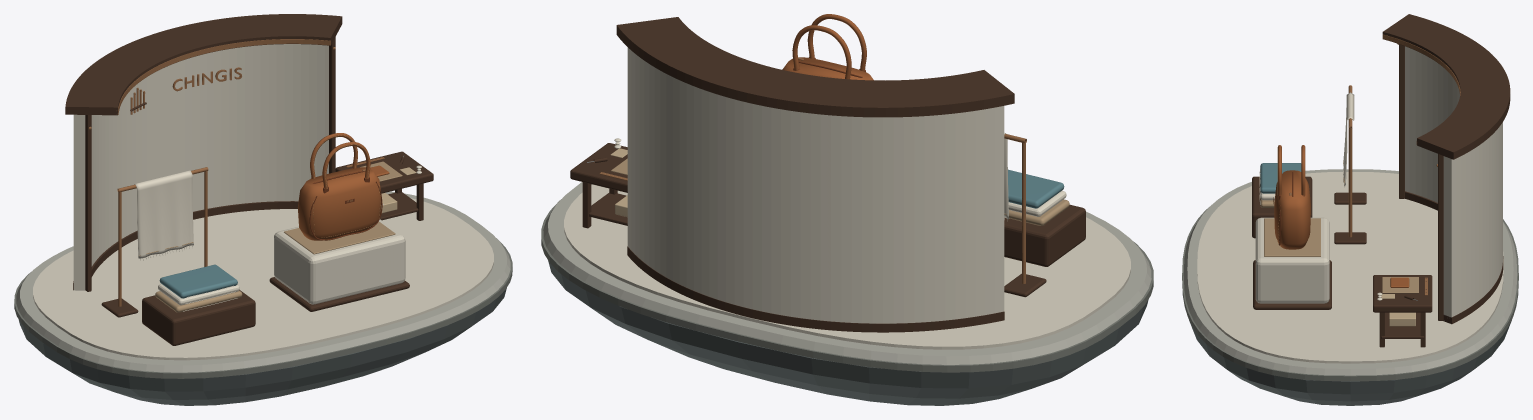
The model's file is atelier-v5.glb.
3 views of the same model, side by side, from view 1: azimuth 30°, elevation 25°; view 2: azimuth 150°, elevation 25°; view 3: azimuth 270°, elevation 25° (orthographic). The views are drawn at different scales.
Visible parts, largest first — view 1: Atelier_Atelier_limestone, Atelier_Atelier_timber, Atelier_Atelier_basalt, Atelier_Atelier_floor, atelier_bag_Atelier_leather, atelier_textile_Atelier_felt, Atelier_Atelier_strata, Atelier_Atelier_metal, Atelier_Atelier_cashmere, Atelier_Atelier_moonstone, Atelier_Atelier_felt, atelier_bag_Atelier_leather_edge; view 2: Atelier_Atelier_limestone, Atelier_Atelier_timber, Atelier_Atelier_basalt, Atelier_Atelier_floor, Atelier_Atelier_strata, atelier_bag_Atelier_leather, Atelier_Atelier_moonstone, Atelier_Atelier_metal, Atelier_Atelier_cashmere, Atelier_Atelier_felt; view 3: Atelier_Atelier_limestone, Atelier_Atelier_timber, Atelier_Atelier_floor, Atelier_Atelier_basalt, atelier_bag_Atelier_leather, Atelier_Atelier_strata, Atelier_Atelier_cashmere, Atelier_Atelier_metal, Atelier_Atelier_moonstone, Atelier_Atelier_kraft, atelier_textile_Atelier_felt.
Part boxes in pixels (x1,y1,x2,y2): Atelier_Atelier_limestone: [33, 44, 493, 360]; Atelier_Atelier_timber: [65, 14, 433, 345]; Atelier_Atelier_basalt: [19, 288, 506, 405]; Atelier_Atelier_floor: [16, 191, 510, 372]; atelier_bag_Atelier_leather: [297, 133, 381, 240]; atelier_textile_Atelier_felt: [134, 170, 193, 260]; Atelier_Atelier_strata: [14, 238, 512, 378]; Atelier_Atelier_metal: [88, 39, 384, 306]; Atelier_Atelier_cashmere: [155, 161, 402, 312]; Atelier_Atelier_moonstone: [159, 264, 237, 298]; Atelier_Atelier_felt: [158, 165, 421, 311]; atelier_bag_Atelier_leather_edge: [309, 168, 382, 240]; Atelier_Atelier_limestone: [564, 47, 1130, 349]; Atelier_Atelier_timber: [570, 17, 1085, 332]; Atelier_Atelier_basalt: [548, 260, 1148, 405]; Atelier_Atelier_floor: [543, 182, 1151, 364]; Atelier_Atelier_strata: [541, 199, 1153, 372]; atelier_bag_Atelier_leather: [782, 14, 873, 80]; Atelier_Atelier_moonstone: [1008, 169, 1064, 208]; Atelier_Atelier_metal: [599, 134, 1026, 283]; Atelier_Atelier_cashmere: [611, 158, 1069, 225]; Atelier_Atelier_felt: [614, 138, 1066, 216]; Atelier_Atelier_limestone: [1197, 46, 1503, 363]; Atelier_Atelier_timber: [1252, 14, 1510, 347]; Atelier_Atelier_floor: [1183, 169, 1517, 375]; Atelier_Atelier_basalt: [1189, 320, 1511, 405]; atelier_bag_Atelier_leather: [1274, 145, 1310, 249]; Atelier_Atelier_strata: [1182, 207, 1518, 381]; Atelier_Atelier_cashmere: [1260, 198, 1418, 293]; Atelier_Atelier_metal: [1348, 34, 1460, 295]; Atelier_Atelier_moonstone: [1260, 163, 1301, 193]; Atelier_Atelier_kraft: [1381, 294, 1415, 326]; atelier_textile_Atelier_felt: [1343, 92, 1354, 187].
Size of the model in its own units: 5.92 by 3.66 by 4.13.
